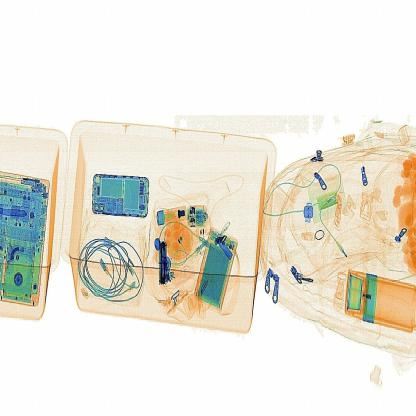scissors: (150, 234, 175, 289)
